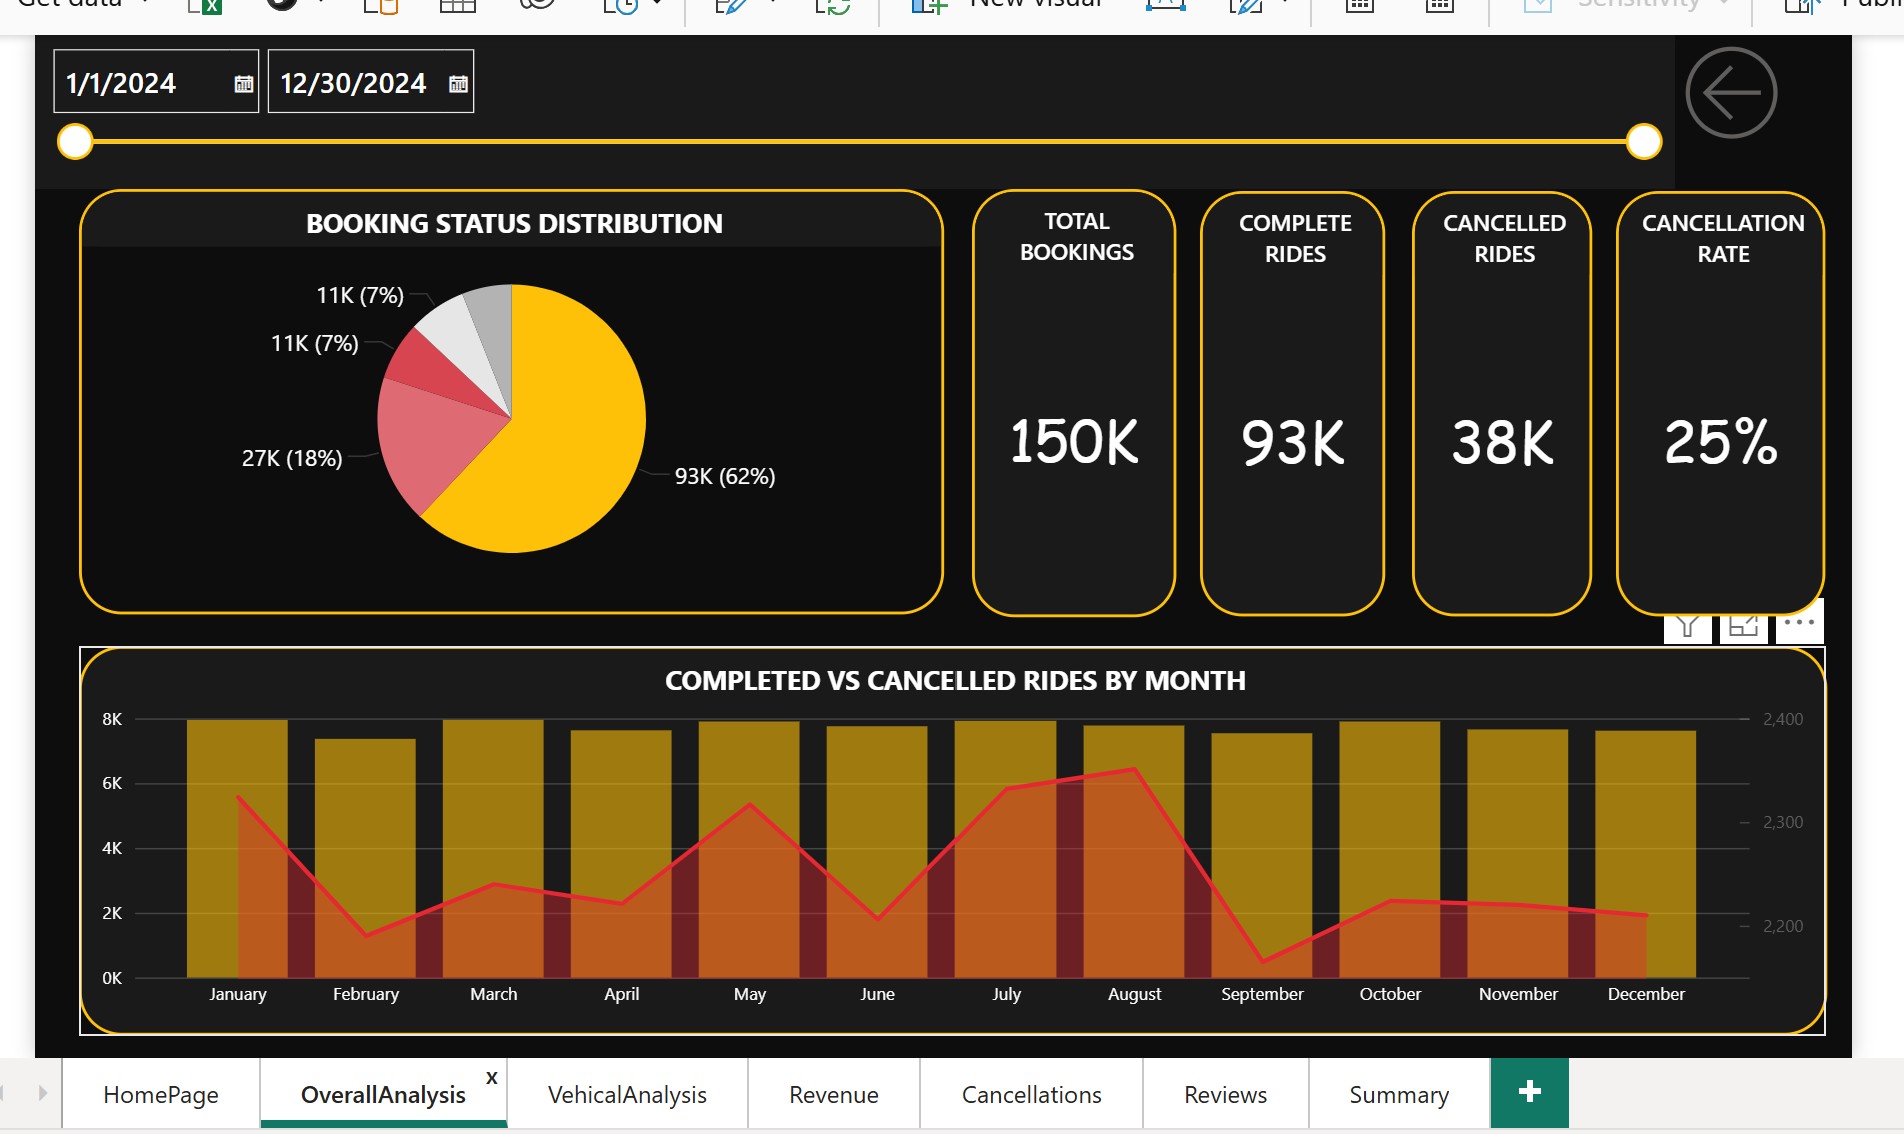

The dashboard page shown, as its layout file describes it:
{"tool":"powerbi","page":{"name":"OverallAnalysis","canvas":[1280,720],"ordinal":1},"visuals":[{"type":"lineStackedColumnComboChart","title":"COMPLETED VS CANCELLED RIDES BY MONTH","fields":{"Category":["rideBookings.Date.Variation.Date Hierarchy.Month"],"Y":["rideBookings.Completed Rides"],"Y2":["CountNonNull(rideBookings.Cancelled Rides by Driver)"]},"box":[30.3,429.8,1230.8,274.6],"z":0},{"type":"pieChart","title":"BOOKING STATUS DISTRIBUTION","fields":{"Category":["rideBookings.Booking Status"],"Y":["CountNonNull(rideBookings.Booking Status)"]},"box":[30.3,107.9,609.7,299.2],"z":1000},{"type":"cardVisual","title":"TOTAL BOOKINGS","fields":{"Data":["CountNonNull(rideBookings.Booking ID)"]},"box":[658.9,107.9,143.9,301.1],"z":2000},{"type":"slicer","fields":{"Values":["rideBookings.Date"]},"box":[0,0,1154.2,107.8],"z":3000},{"type":"cardVisual","title":"CANCELLED RIDES","fields":{"Data":["rideBookings.TotalCancelled"]},"box":[968.8,109.8,126.9,299.2],"z":4000},{"type":"actionButton","box":[1154.2,0,92.1,81.2],"z":5000},{"type":"cardVisual","title":"COMPLETE RIDES","fields":{"Data":["rideBookings.Completed Rides"]},"box":[820.5,109.8,130.7,299.2],"z":6000},{"type":"cardVisual","title":"CANCELLATION RATE","fields":{"Data":["rideBookings.CancelledPercentage"]},"box":[1113.4,109.8,147.7,299.2],"z":7000}]}

Visuals, with their boxes on the page's 1280x720 design canvas (x1, y1, x2, y2). These are canvas units, not pixel positions in the 1904x1134 screenshot, which may show the page scaled, cropped or inside an application window:
"COMPLETED VS CANCELLED RIDES BY MONTH" lineStackedColumnComboChart: box=[30, 430, 1261, 704]
"BOOKING STATUS DISTRIBUTION" pieChart: box=[30, 108, 640, 407]
"TOTAL BOOKINGS" cardVisual: box=[659, 108, 803, 409]
slicer - rideBookings.Date: box=[0, 0, 1154, 108]
"CANCELLED RIDES" cardVisual: box=[969, 110, 1096, 409]
actionButton: box=[1154, 0, 1246, 81]
"COMPLETE RIDES" cardVisual: box=[820, 110, 951, 409]
"CANCELLATION RATE" cardVisual: box=[1113, 110, 1261, 409]
